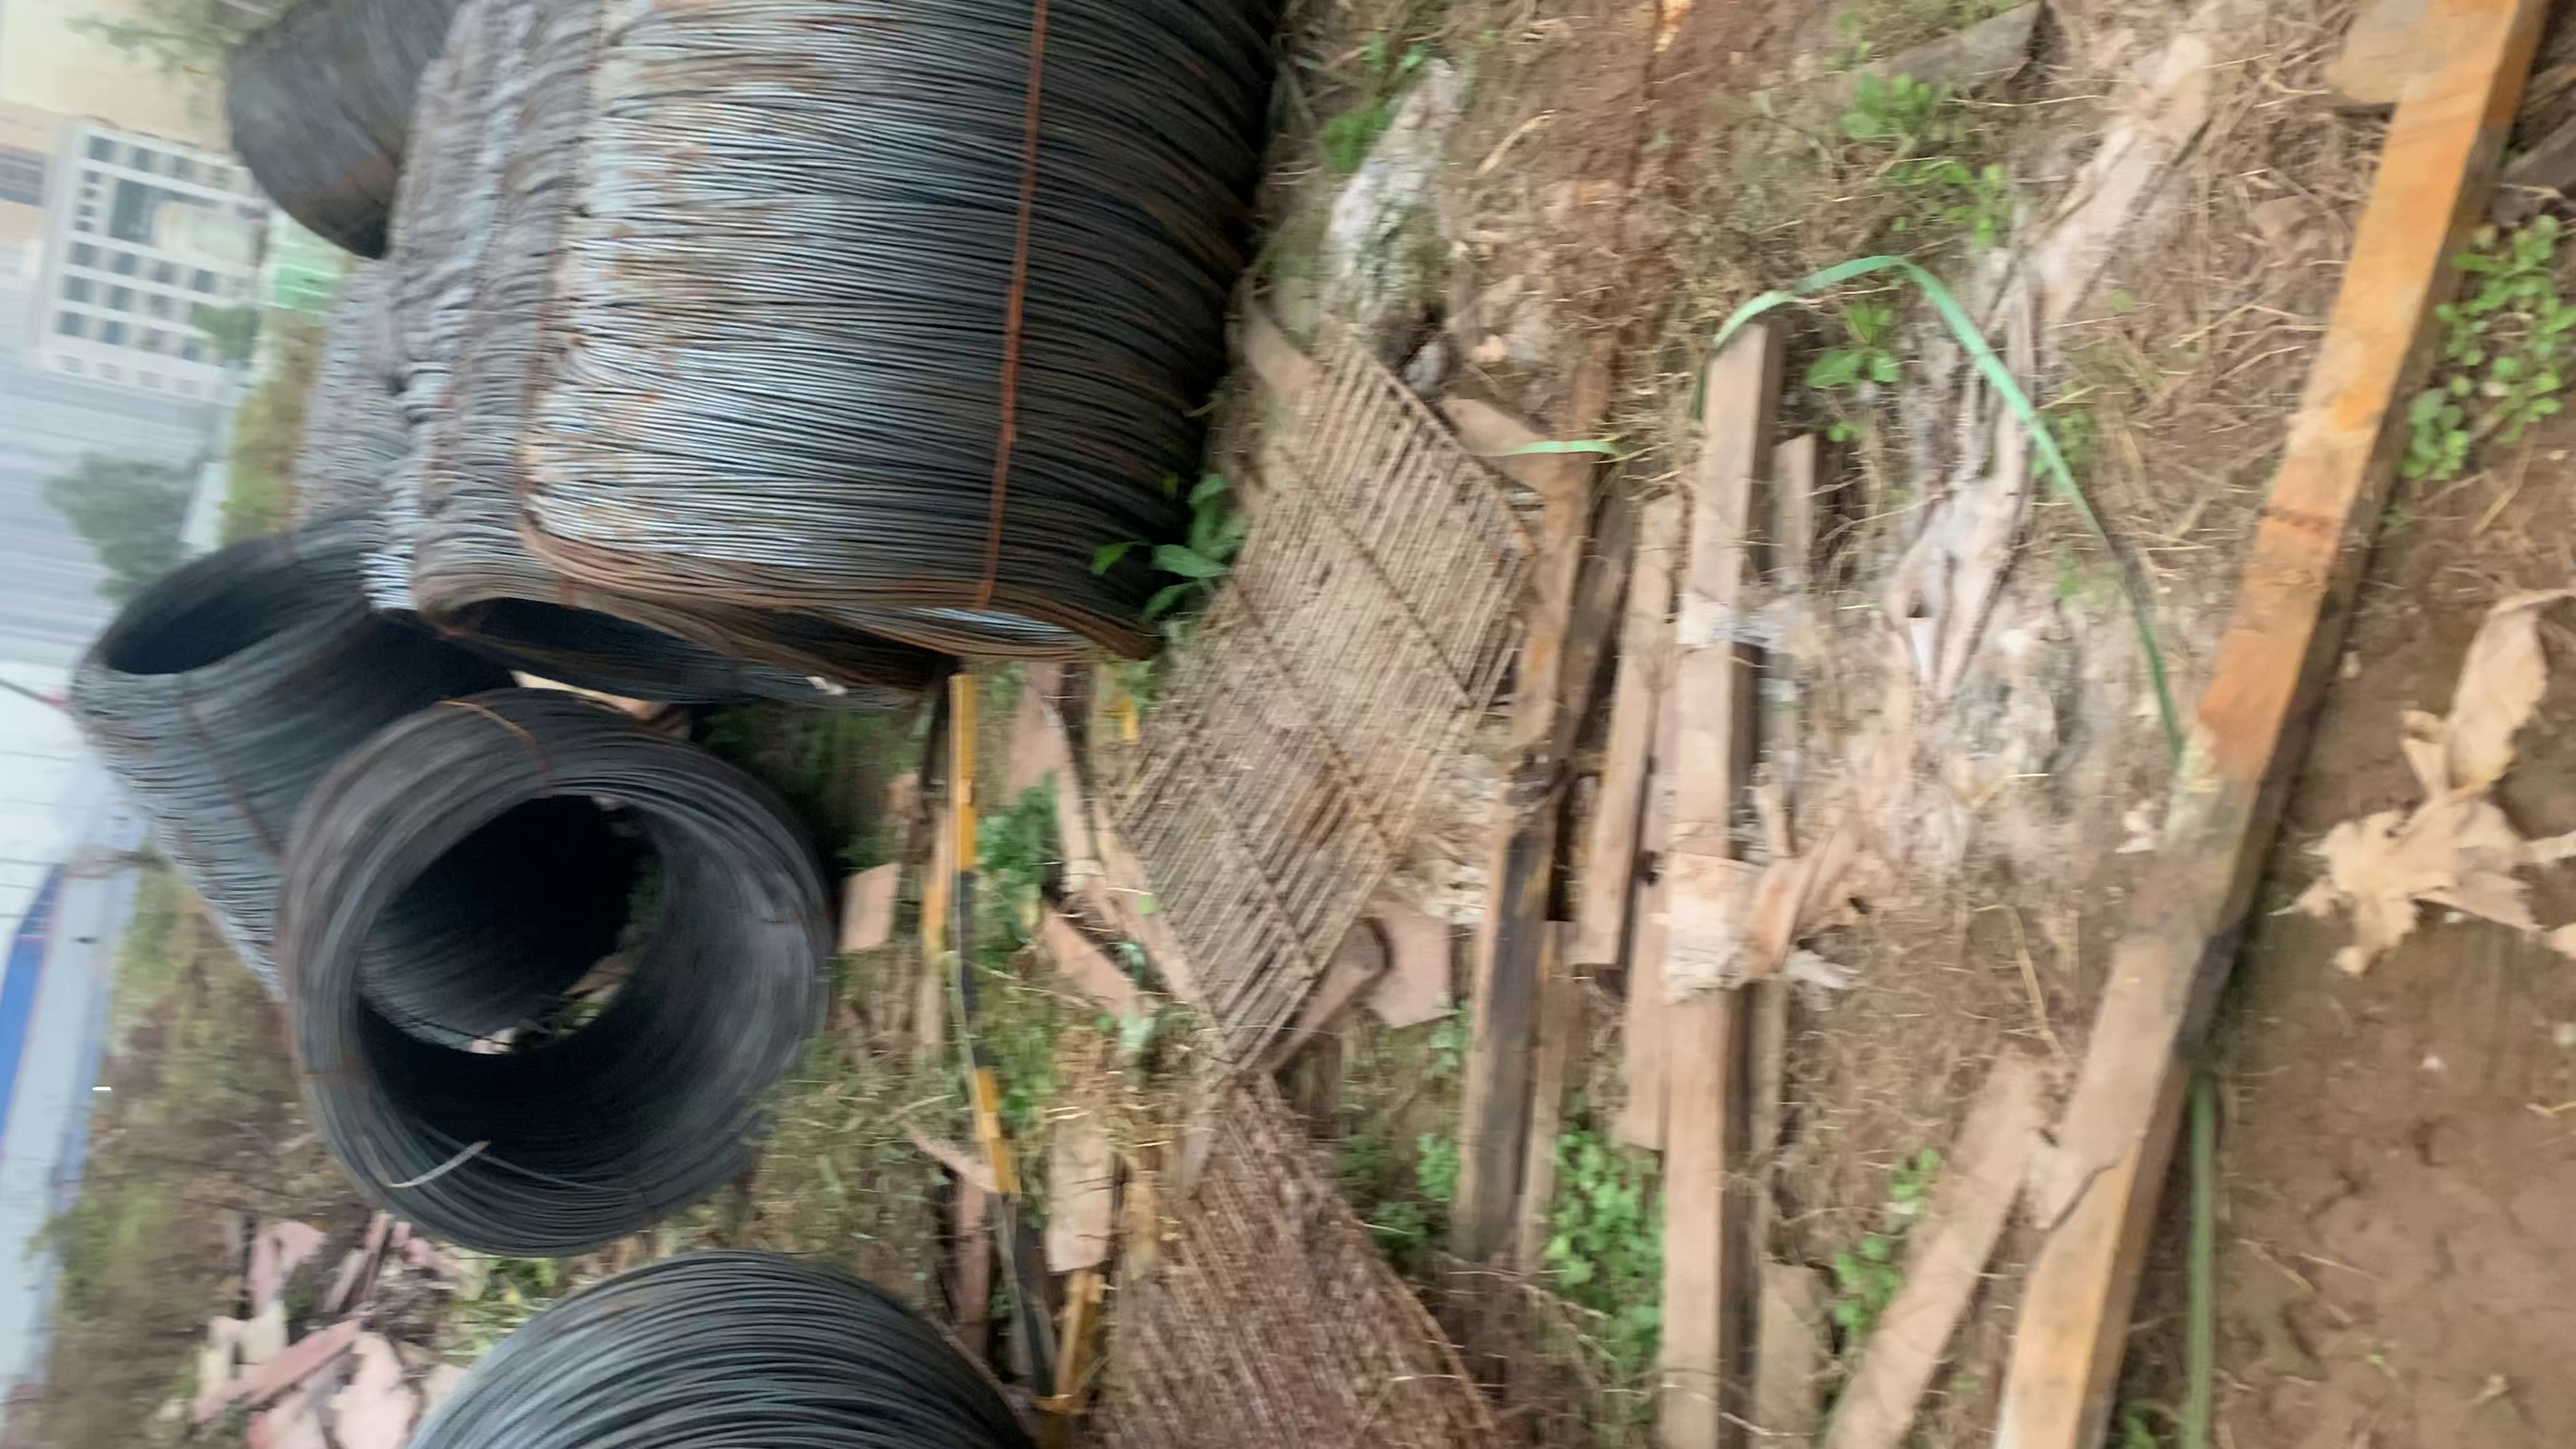coil: (297, 775, 870, 1254), (527, 547, 1143, 704), (372, 557, 901, 718), (88, 522, 396, 708)
